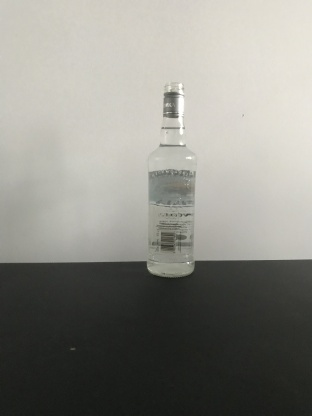nakretka: (160, 79, 186, 119)
